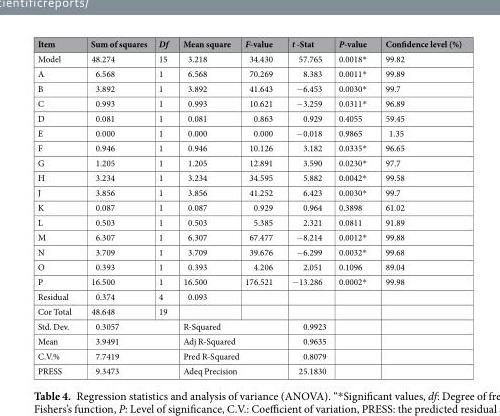table: (36, 37, 461, 376)
table column: (375, 37, 461, 376), (80, 37, 152, 376), (174, 37, 237, 376), (281, 37, 331, 376), (36, 37, 80, 376), (237, 37, 281, 376), (331, 37, 375, 376), (152, 37, 174, 376)
table column header: (36, 37, 461, 50)
table row: (36, 139, 461, 155), (36, 228, 461, 244), (36, 273, 461, 289), (36, 50, 461, 65), (36, 65, 461, 80), (36, 80, 461, 95), (36, 95, 461, 110), (36, 110, 461, 125), (36, 169, 461, 184), (36, 184, 461, 199), (36, 199, 461, 214), (36, 244, 461, 259), (36, 303, 461, 318), (36, 318, 461, 333), (36, 333, 461, 348), (36, 348, 461, 363), (36, 125, 461, 139), (36, 155, 461, 169), (36, 214, 461, 228), (36, 259, 461, 273), (36, 289, 461, 303), (36, 37, 461, 50), (36, 363, 461, 376)
table spanning cell: (174, 318, 281, 333), (174, 333, 281, 348), (174, 348, 281, 363), (80, 318, 174, 333), (80, 333, 174, 348), (80, 348, 174, 363), (174, 363, 281, 376), (80, 363, 174, 376)
